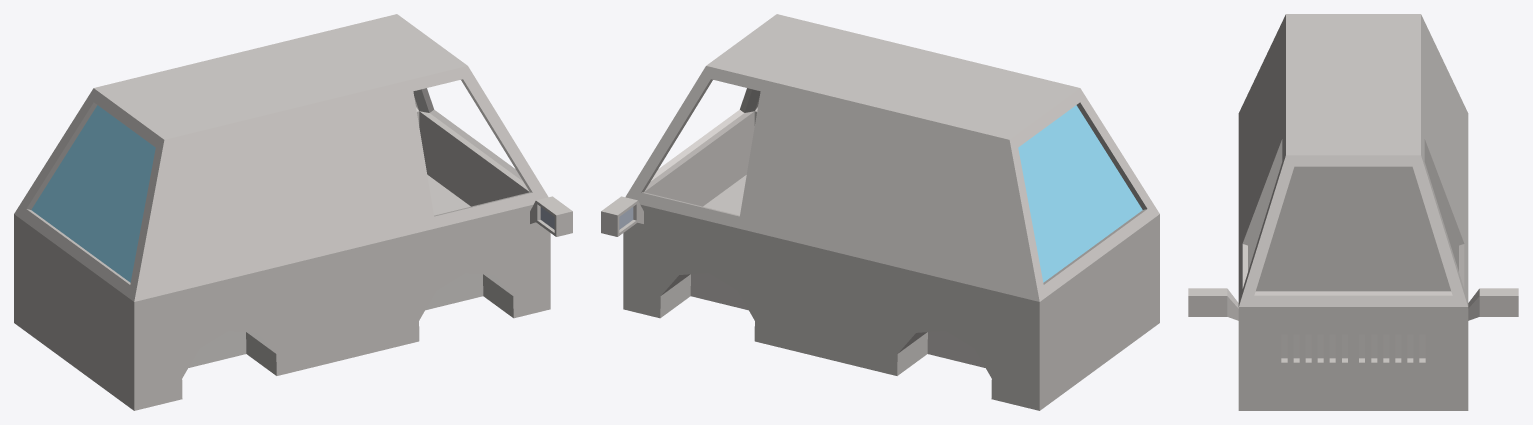
The model's file is Car.glb.
3 renders of one model, left to right at view 1: azimuth 30°, elevation 25°; view 2: azimuth 150°, elevation 25°; view 3: azimuth 270°, elevation 25°, orthographic. The views are drawn at different scales.
Visible parts, largest first — view 1: Cube.028; view 2: Cube.028; view 3: Cube.028.
Part boxes in pixels (x1=…): Cube.028: x1=14, y1=14, x2=572, y2=410; Cube.028: x1=601, y1=14, x2=1159, y2=410; Cube.028: x1=1188, y1=14, x2=1518, y2=410.
Bounding box in the file's own units: 0.129 × 0.0709 × 0.0929.
1 material, 1 textured.
